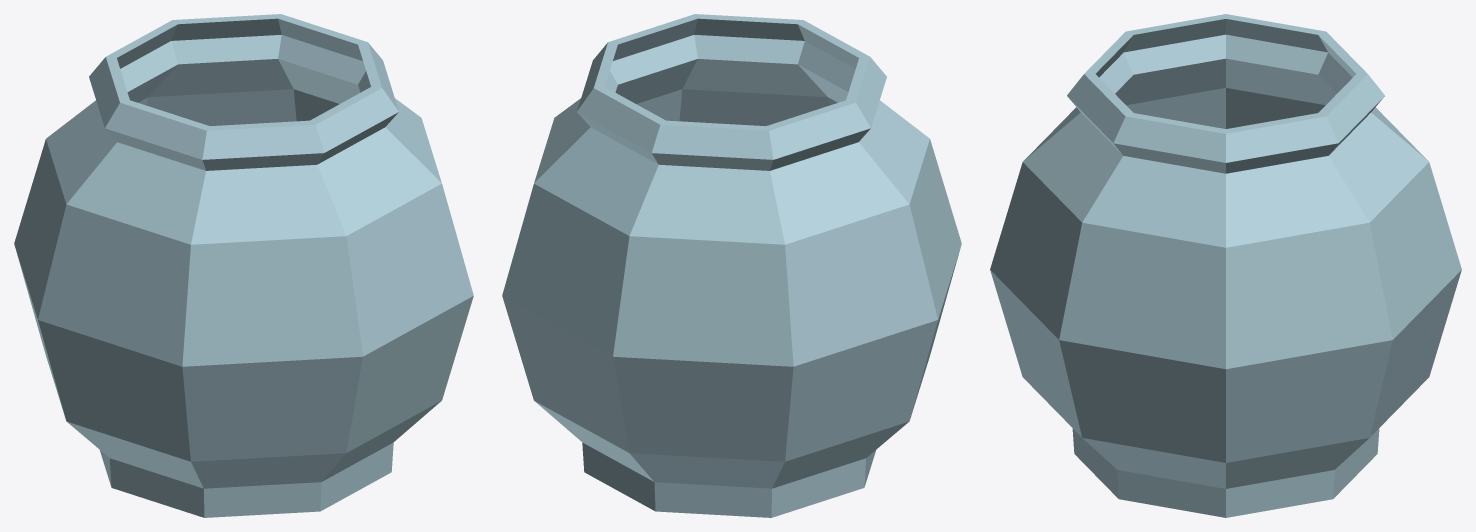
File: Pot_empty_5.fbx
3 views of the same model, side by side, from view 1: azimuth 30°, elevation 25°; view 2: azimuth 150°, elevation 25°; view 3: azimuth 270°, elevation 25° (orthographic).
Visible parts, largest first — view 1: Pot_empty_5; view 2: Pot_empty_5; view 3: Pot_empty_5.
Boxes of the visible parts, <box> form: Pot_empty_5: <box>14,14,473,517</box>; Pot_empty_5: <box>502,14,961,517</box>; Pot_empty_5: <box>990,14,1461,517</box>.
Size of the model in its own units: 18.42 by 18.42 by 16.57.
